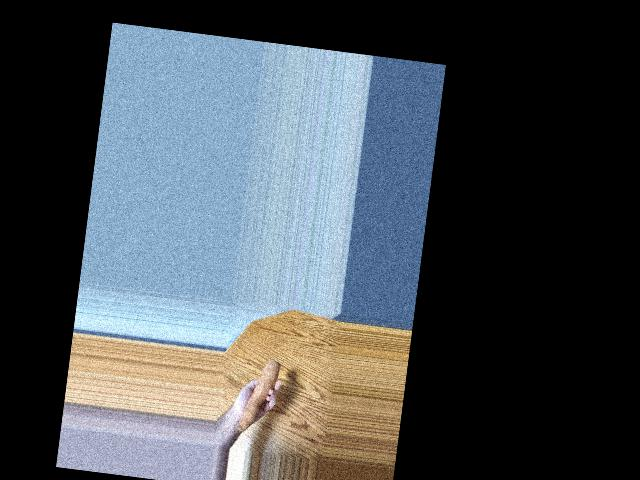sweet_potato: (234, 355, 282, 436)
